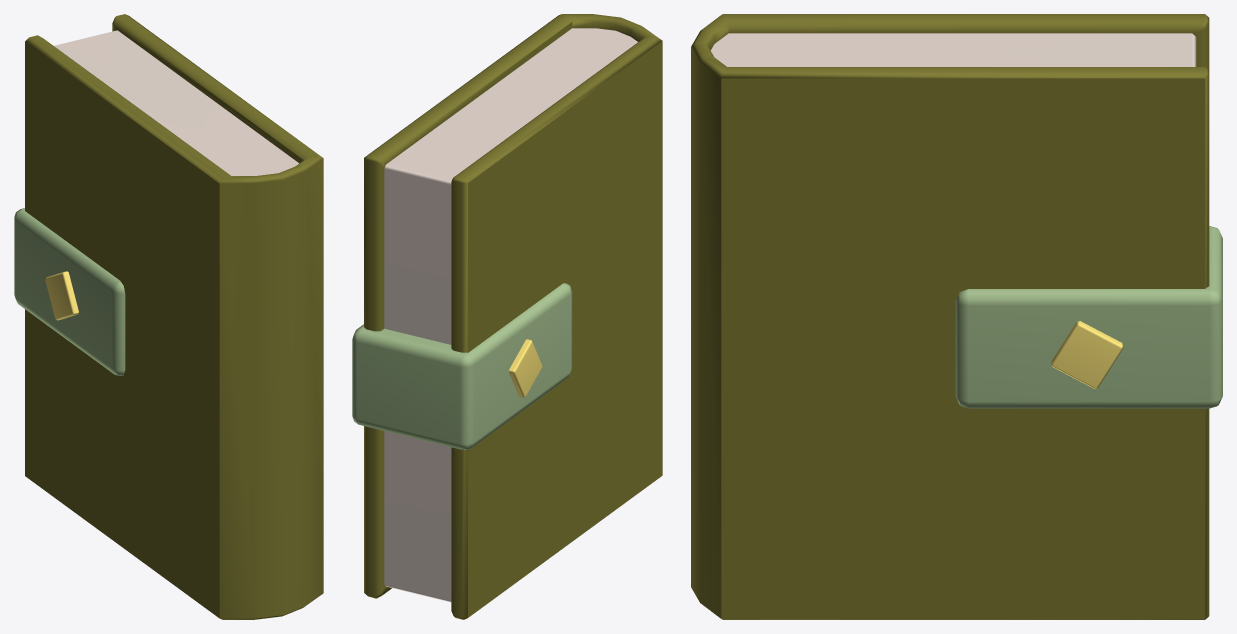
The model's file is Book_9.glb.
The picture shows the model from 3 angles, left to right: view 1: azimuth 30°, elevation 25°; view 2: azimuth 150°, elevation 25°; view 3: azimuth 270°, elevation 25°; orthographic projection. The views are drawn at different scales.
Parts seen in each view (by area): view 1: Book_9; view 2: Book_9; view 3: Book_9.
Part boxes in pixels (box(x1,y1,x2,y2)): Book_9: box(14, 14, 323, 619); Book_9: box(352, 14, 662, 619); Book_9: box(691, 14, 1222, 619).
Bounding box in the file's own units: 0.0684 × 0.2176 × 0.1914.
Materials: 1 (1 with a texture image).
